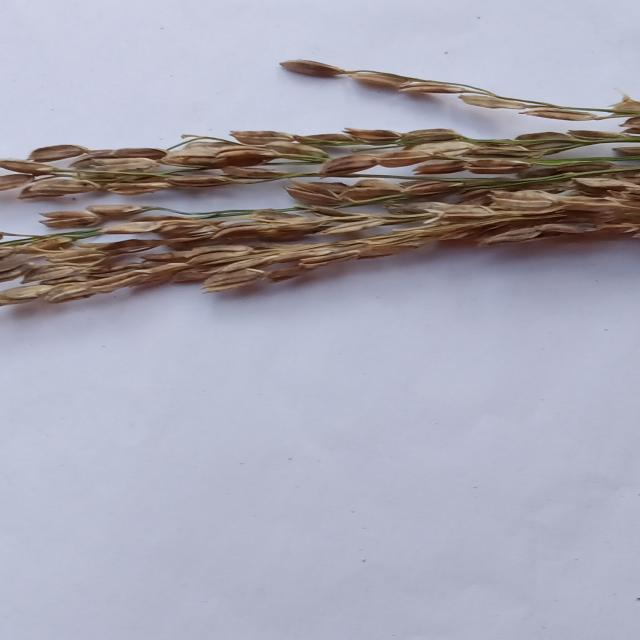Neck_Blast: (0, 191, 640, 304), (0, 127, 634, 197), (280, 50, 640, 122)
